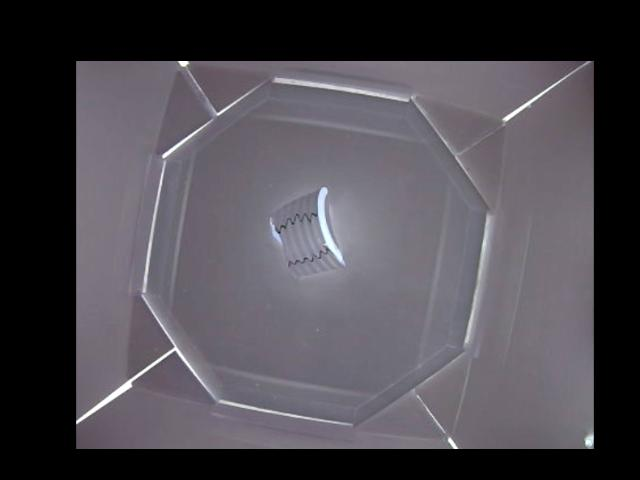China: (268, 187, 343, 276)
